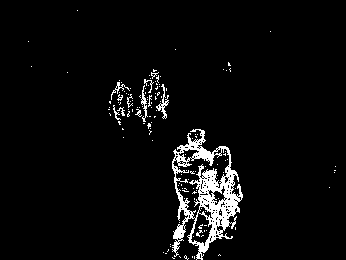person: (201, 144, 240, 260), (171, 127, 207, 252), (140, 69, 170, 134), (109, 80, 133, 135)
